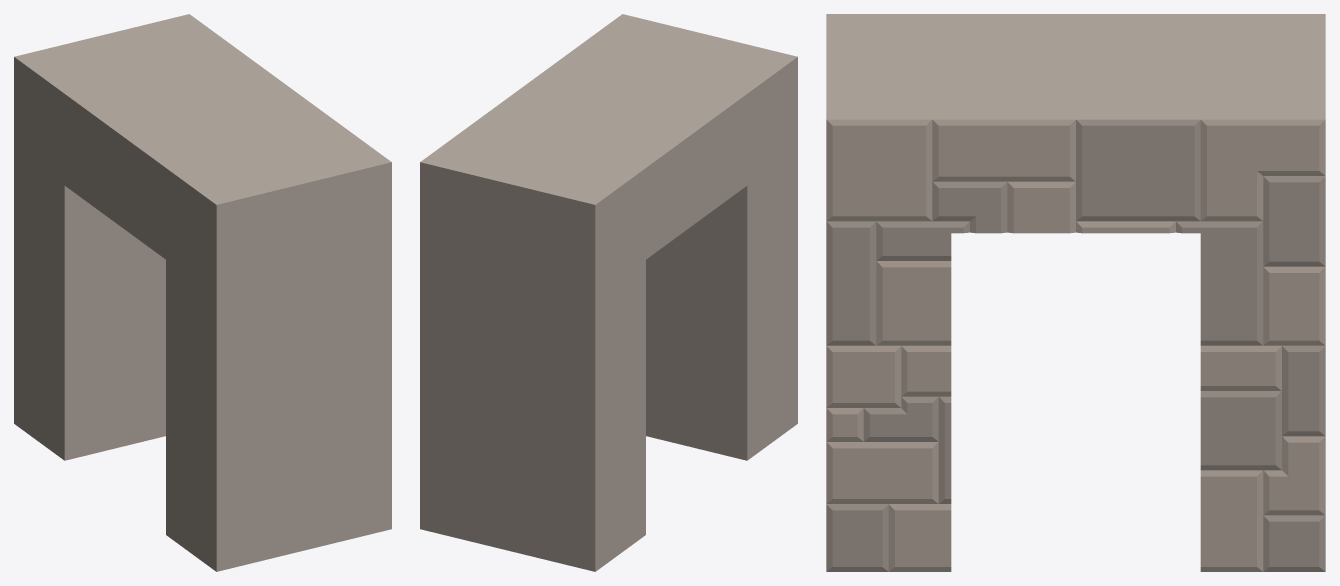
File: object6_012-col.gltf
3 views of the same model, side by side, from view 1: azimuth 30°, elevation 25°; view 2: azimuth 150°, elevation 25°; view 3: azimuth 270°, elevation 25° (orthographic). The views are drawn at different scales.
Visible parts, largest first — view 1: object6.012-col; view 2: object6.012-col; view 3: object6.012-col.
Boxes of the visible parts, box(x1,y1,x2,y2) form: object6.012-col: box(14, 14, 391, 571); object6.012-col: box(420, 14, 797, 571); object6.012-col: box(826, 14, 1325, 571).
Bounding box in the file's own units: 1.01 × 2 × 2.
